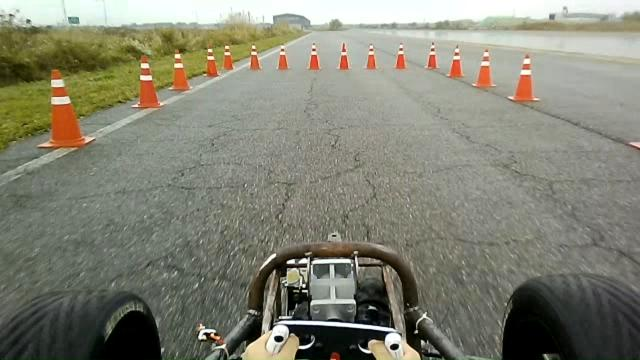red cone: (36, 68, 96, 149), (131, 54, 164, 108), (508, 53, 540, 102), (168, 49, 192, 91), (472, 48, 497, 88), (440, 44, 459, 78), (203, 43, 220, 77), (424, 41, 439, 69), (307, 41, 321, 70), (334, 41, 348, 70), (393, 42, 408, 69), (248, 43, 262, 70), (364, 43, 378, 69), (276, 44, 290, 70), (222, 44, 235, 70)
